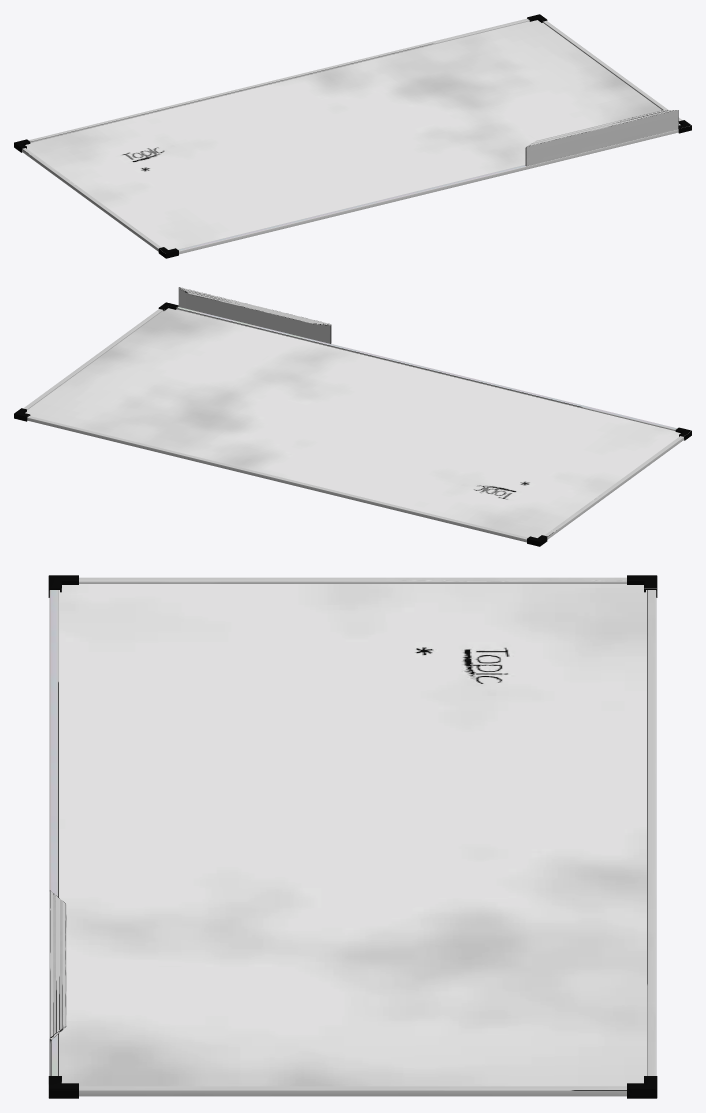
Rendered from whiteboard.glb.
3 renders of one model, top to bottom at view 1: azimuth 30°, elevation 25°; view 2: azimuth 150°, elevation 25°; view 3: azimuth 270°, elevation 25°, orthographic. The views are drawn at different scales.
Parts seen in each view (by area): view 1: Whiteboard.001; view 2: Whiteboard.001; view 3: Whiteboard.001.
Part boxes in pixels (x1=…): Whiteboard.001: x1=14, y1=14, x2=691, y2=258; Whiteboard.001: x1=14, y1=287, x2=691, y2=546; Whiteboard.001: x1=48, y1=575, x2=657, y2=1098.
Size of the model in its own units: 1.2 by 0.0518 by 0.602.
Materials: 1 (1 with a texture image).
